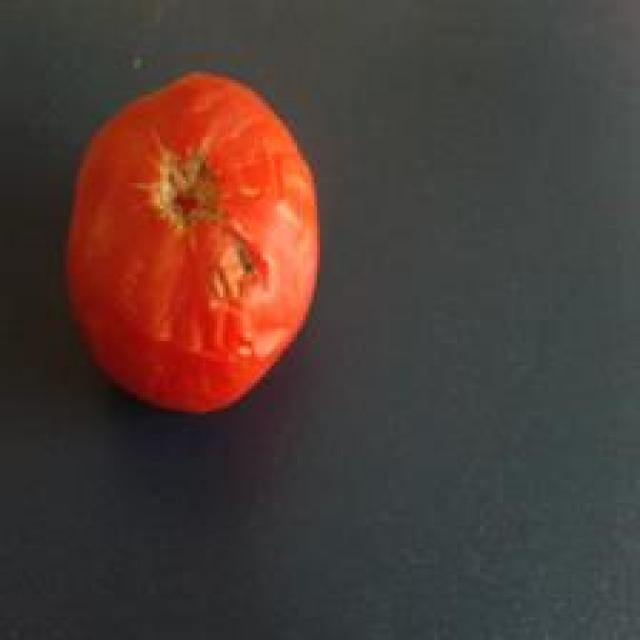overripe: (61, 66, 325, 420)
